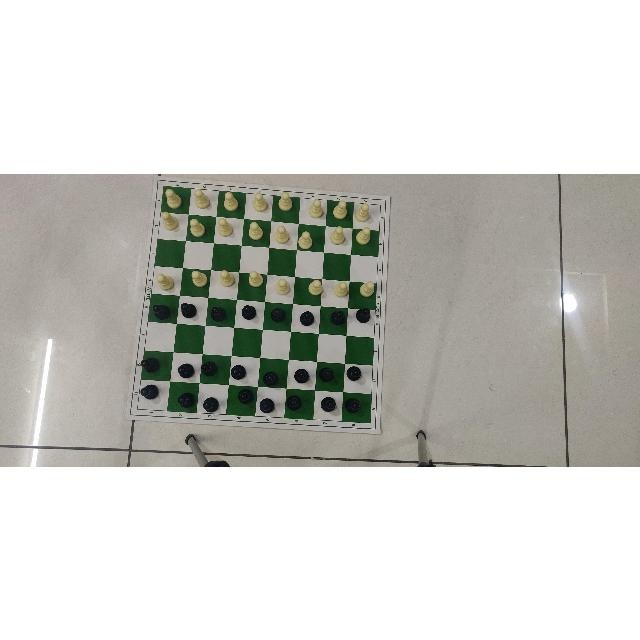black-pawn: (140, 382, 160, 402), (152, 302, 172, 320), (178, 301, 198, 319), (177, 391, 197, 409), (141, 355, 161, 372), (240, 303, 258, 320), (201, 359, 219, 376), (202, 395, 220, 412), (285, 393, 302, 411), (344, 396, 361, 414), (298, 309, 315, 326), (237, 386, 254, 403), (258, 396, 275, 413), (211, 306, 229, 322), (355, 306, 371, 324), (177, 362, 195, 378), (270, 305, 286, 322), (329, 309, 346, 325), (231, 363, 247, 380), (346, 364, 362, 381), (263, 370, 279, 386), (293, 367, 309, 383), (318, 365, 334, 381), (320, 396, 336, 412)
white-pawn: (164, 187, 184, 209), (159, 210, 181, 230), (192, 186, 211, 209), (221, 189, 240, 212), (252, 191, 270, 212), (188, 217, 206, 237), (247, 220, 265, 240), (155, 272, 175, 290), (332, 198, 349, 219), (273, 223, 290, 244), (309, 197, 325, 219), (296, 229, 313, 249), (329, 225, 346, 245), (277, 190, 293, 211), (190, 269, 208, 287), (218, 269, 236, 287), (247, 270, 265, 288), (274, 277, 292, 295), (306, 277, 324, 295), (354, 202, 370, 222), (218, 216, 234, 236), (354, 226, 371, 244), (332, 280, 349, 298), (358, 280, 375, 298)
